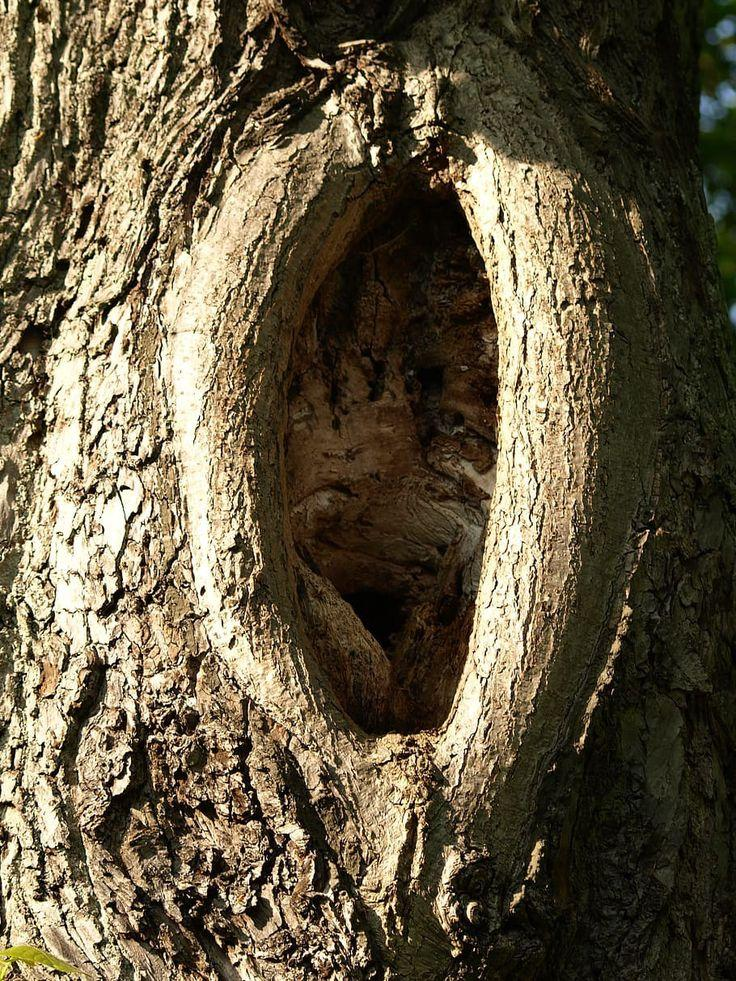hollow: (286, 190, 496, 730)
